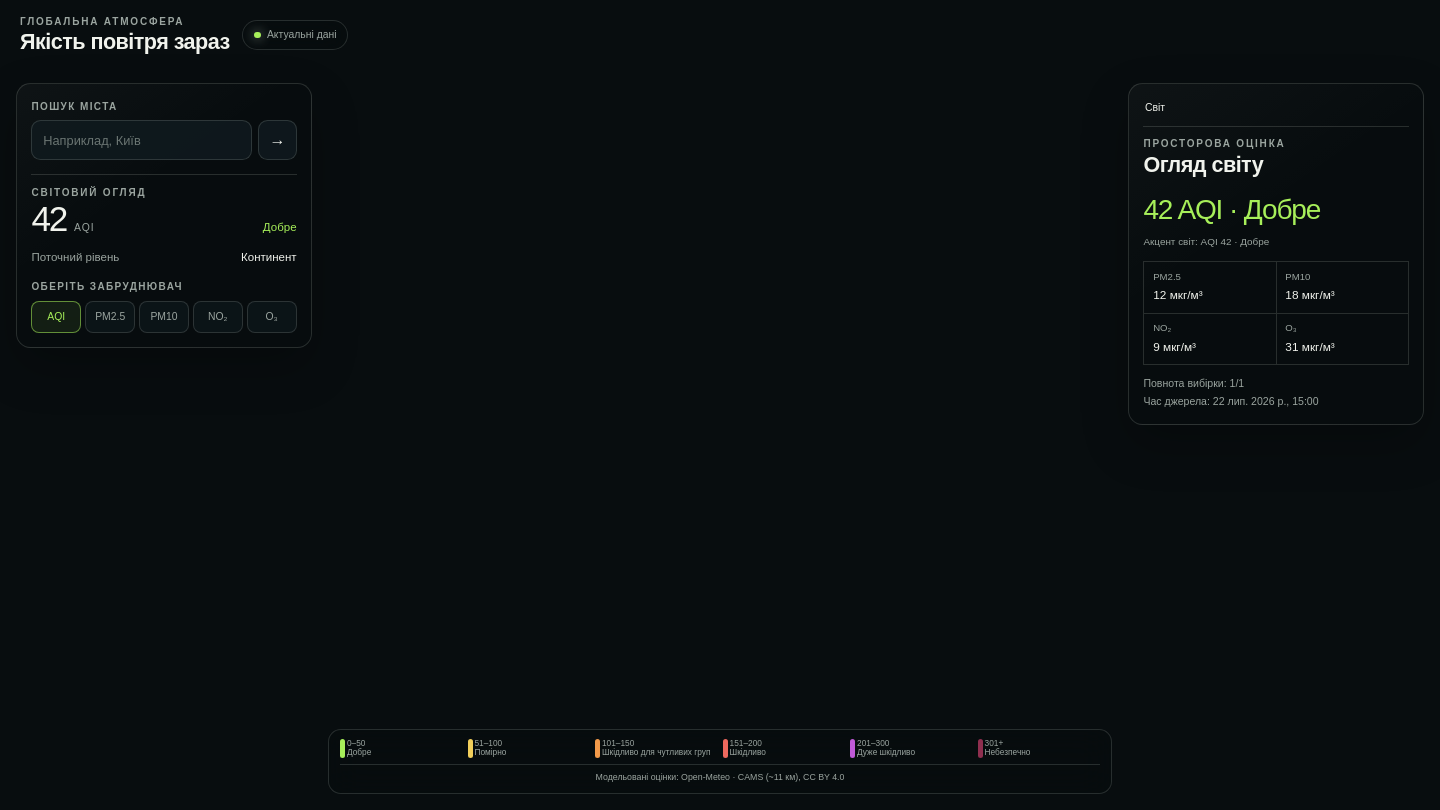
air quality globe shell › clears old place results when a new search starts
The image size is (1440, 810).
Type "Київ" into the search field labelled "Пошук міста" at coordinates (142, 140), box [31, 120, 252, 160]
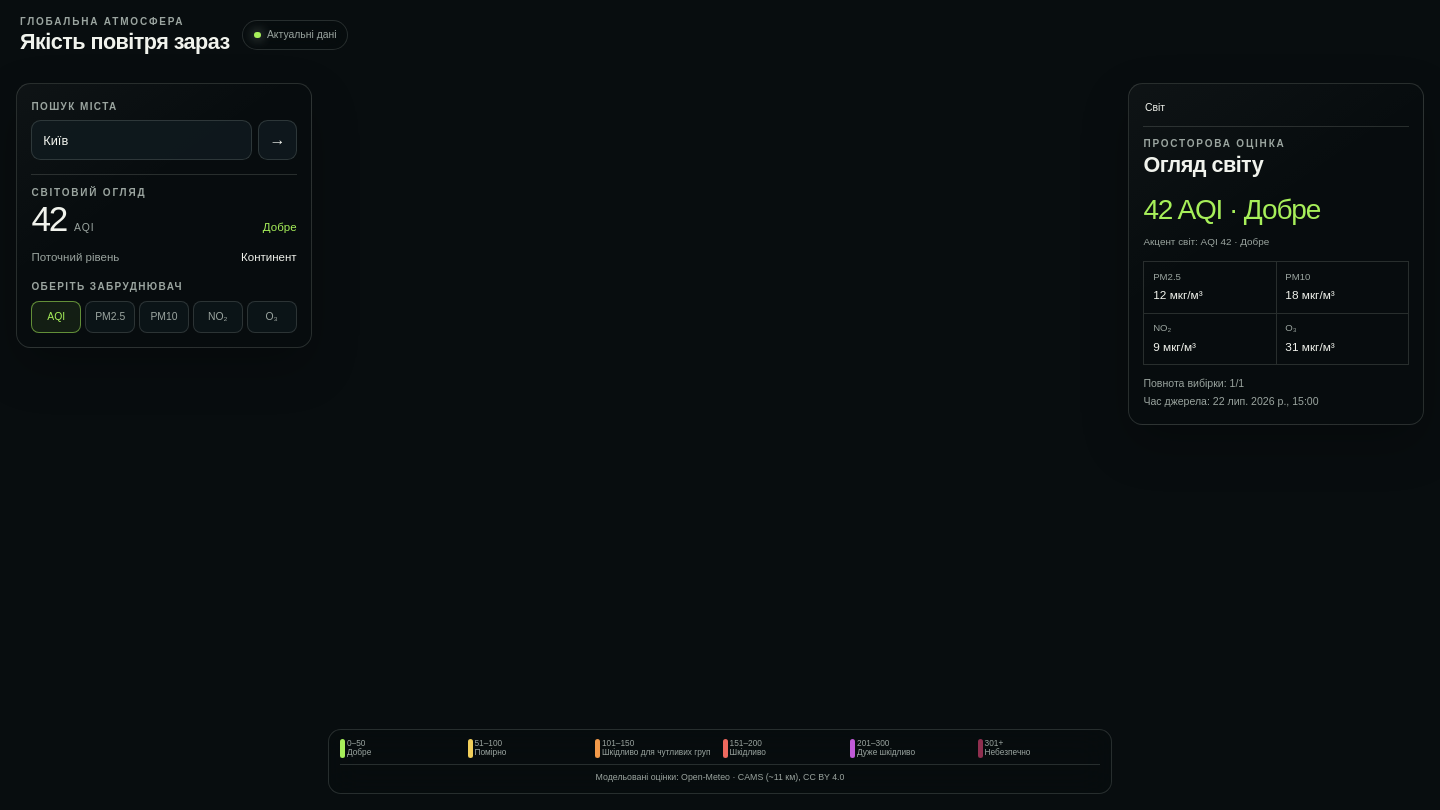
Click the button named "Знайти місто" at coordinates (277, 140), box [258, 120, 297, 160]
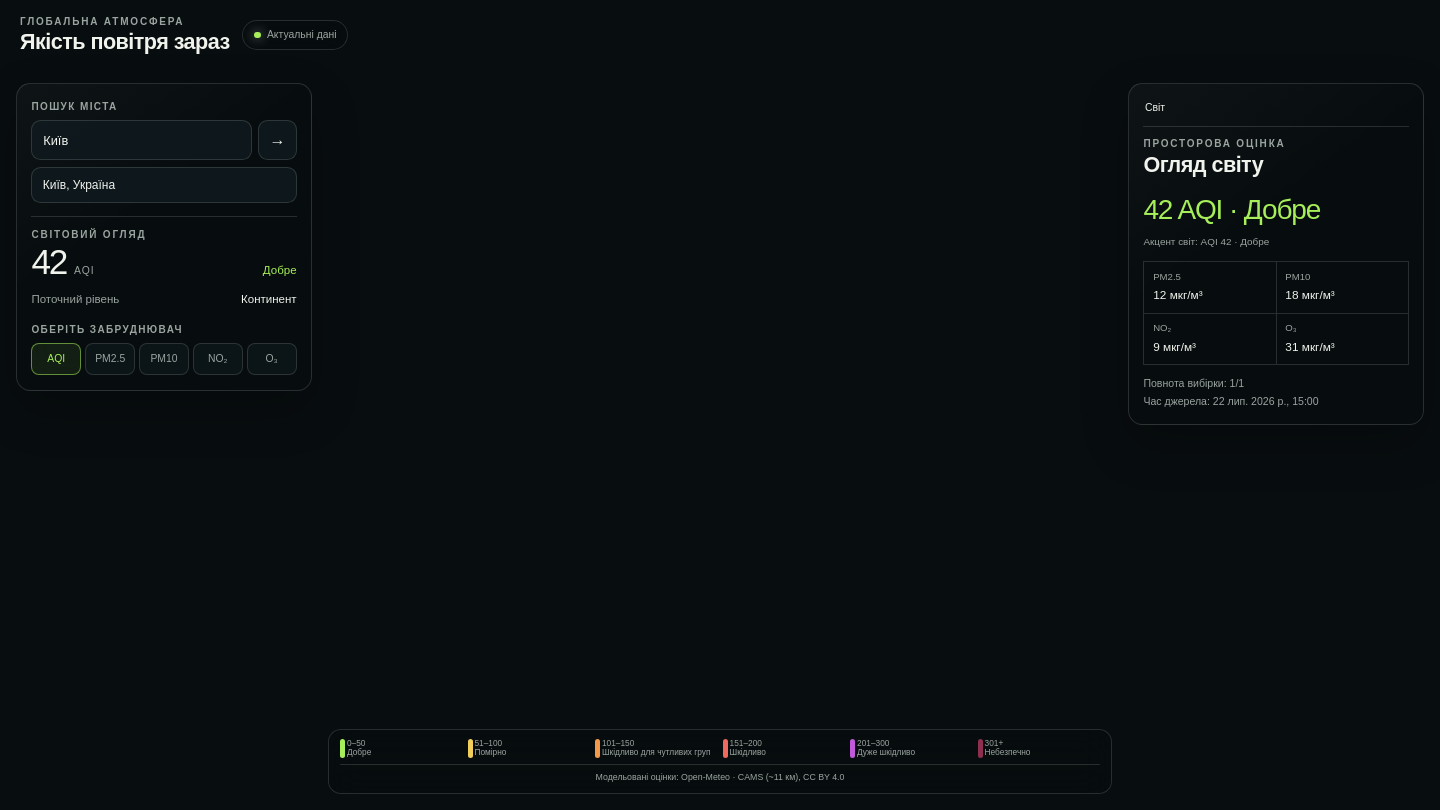
expect the button "Київ, Україна" is shown: met, box [31, 167, 297, 203]
Replace the text in the search field labelled "Пошук міста" with "Львів" at coordinates (142, 140), box [31, 120, 252, 160]
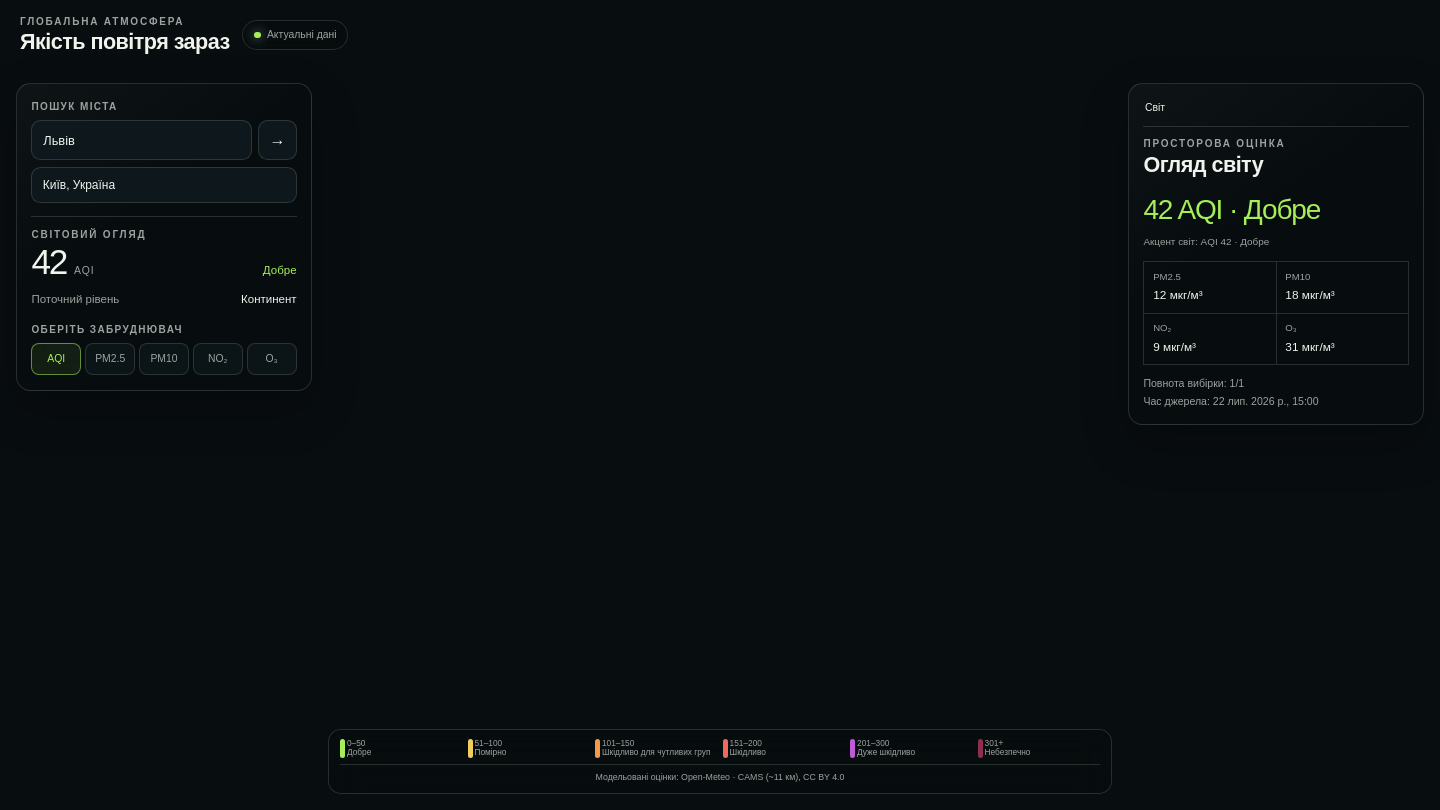
Click the button named "Знайти місто" at coordinates (277, 140), box [258, 120, 297, 160]
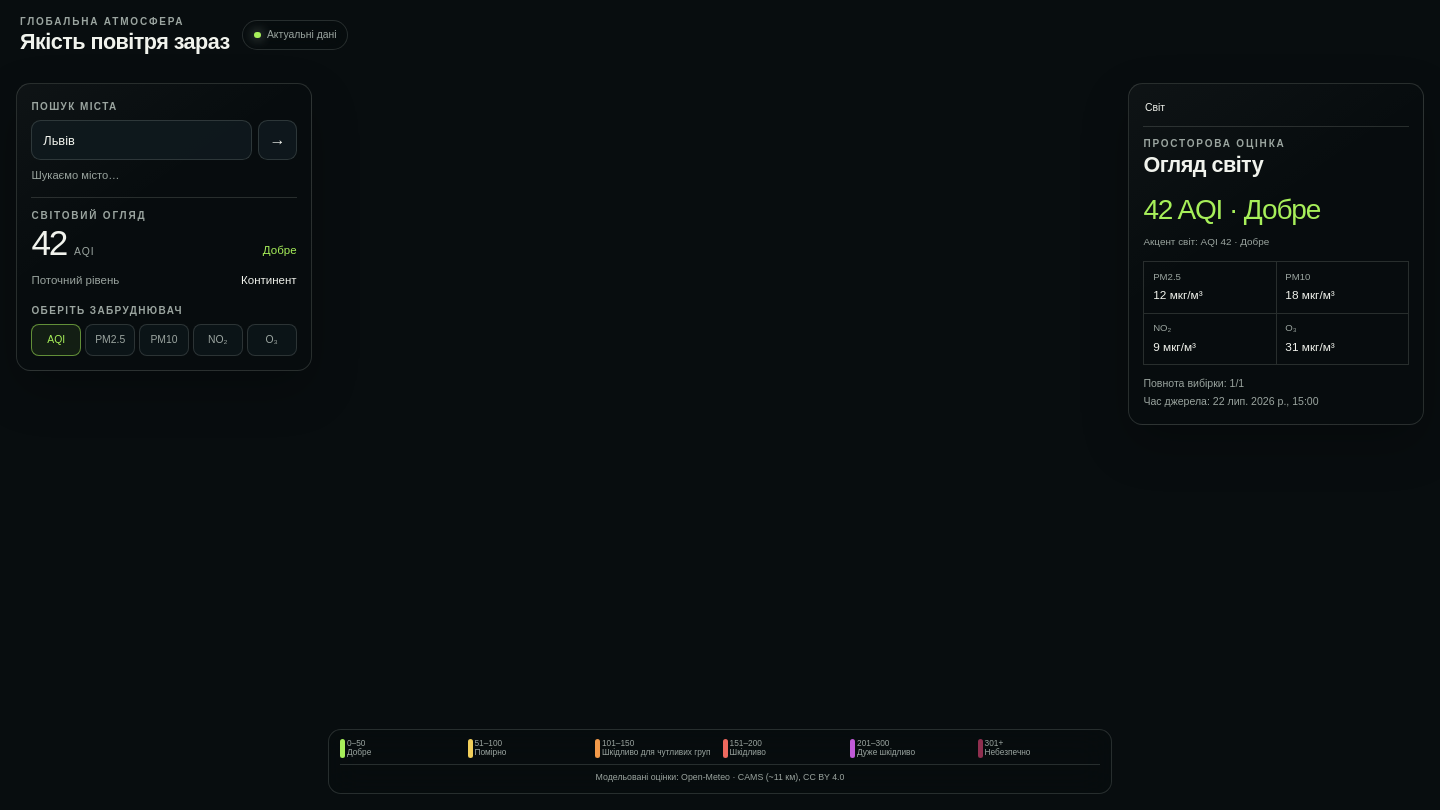
expect the button "Київ, Україна" is gone: met
expect the text "Шукаємо місто…" is shown: met, box [31, 169, 120, 181]
